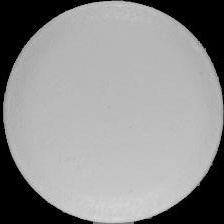51655-049: (0, 0, 224, 224)
